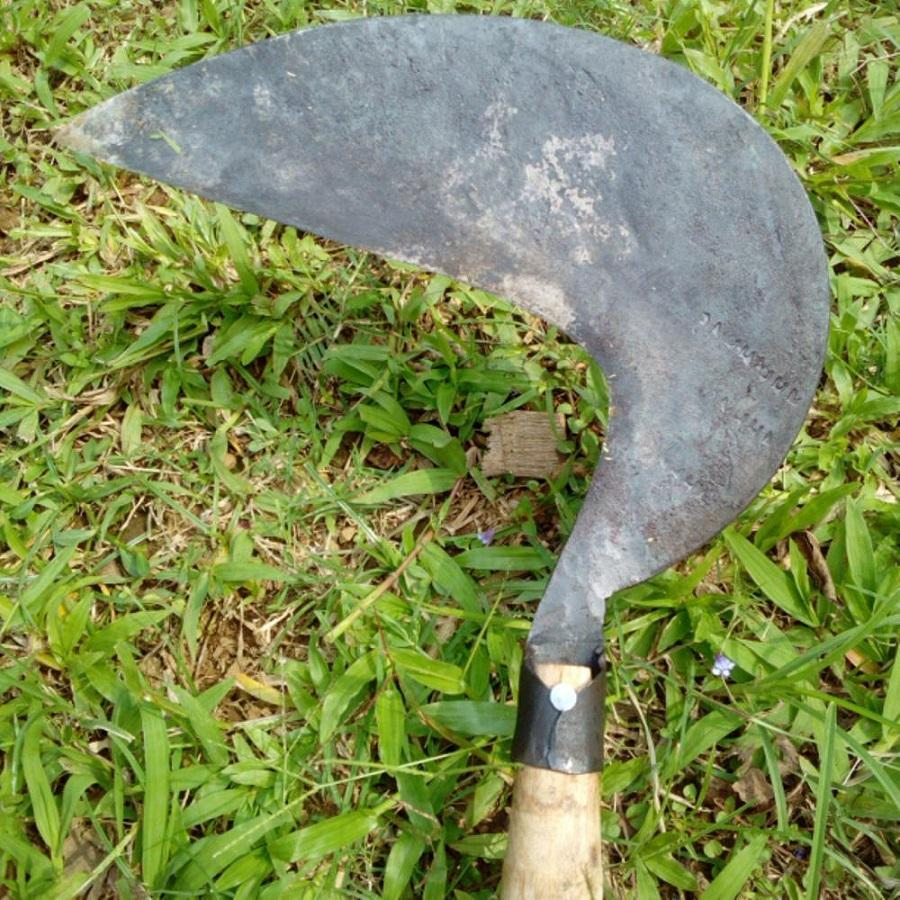foice: (47, 14, 838, 900)
